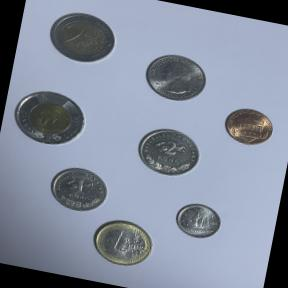coin: (4, 81, 94, 154), (41, 1, 123, 72), (129, 119, 207, 184), (137, 46, 213, 110), (84, 213, 160, 274), (218, 99, 280, 153), (168, 195, 227, 245)
